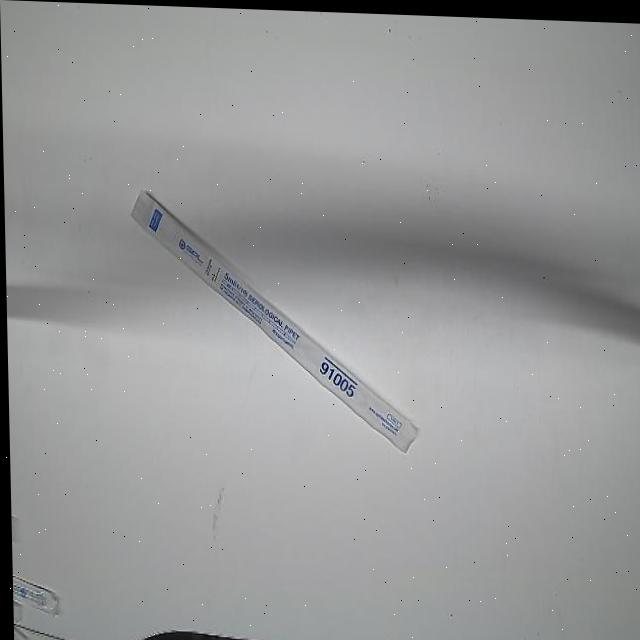Serelogical Pipet 5 mL: (128, 173, 419, 455)
